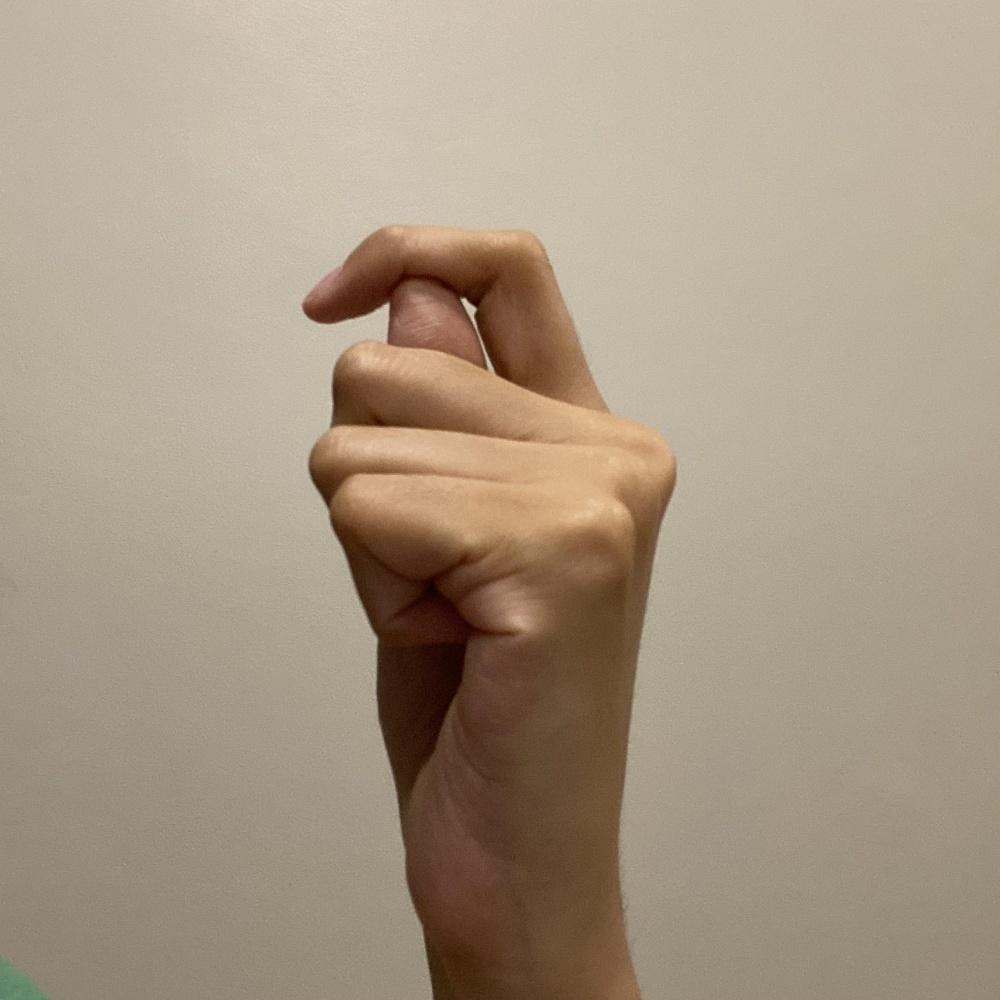t: (298, 214, 681, 966)
